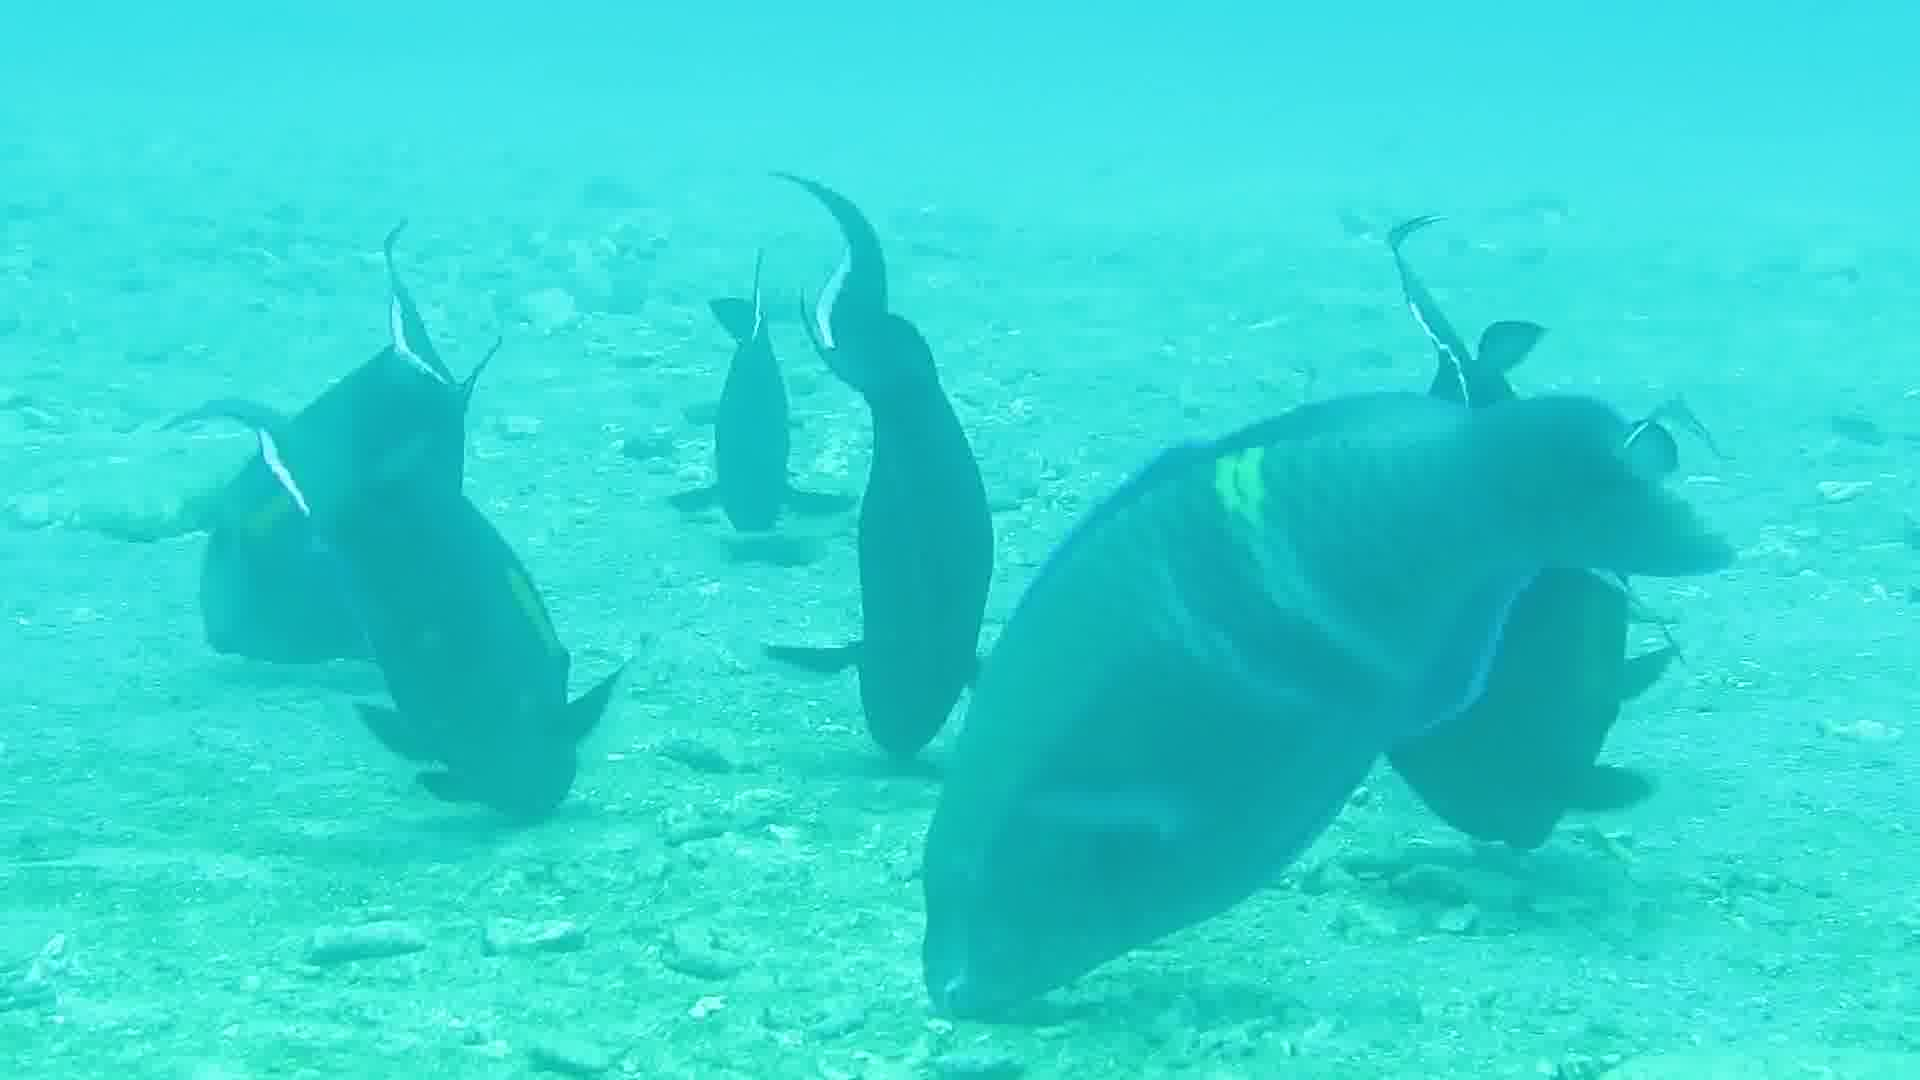Acanthurus olivaceus: (914, 397, 1745, 1054), (140, 225, 630, 911), (789, 127, 1004, 767), (666, 171, 835, 618)
